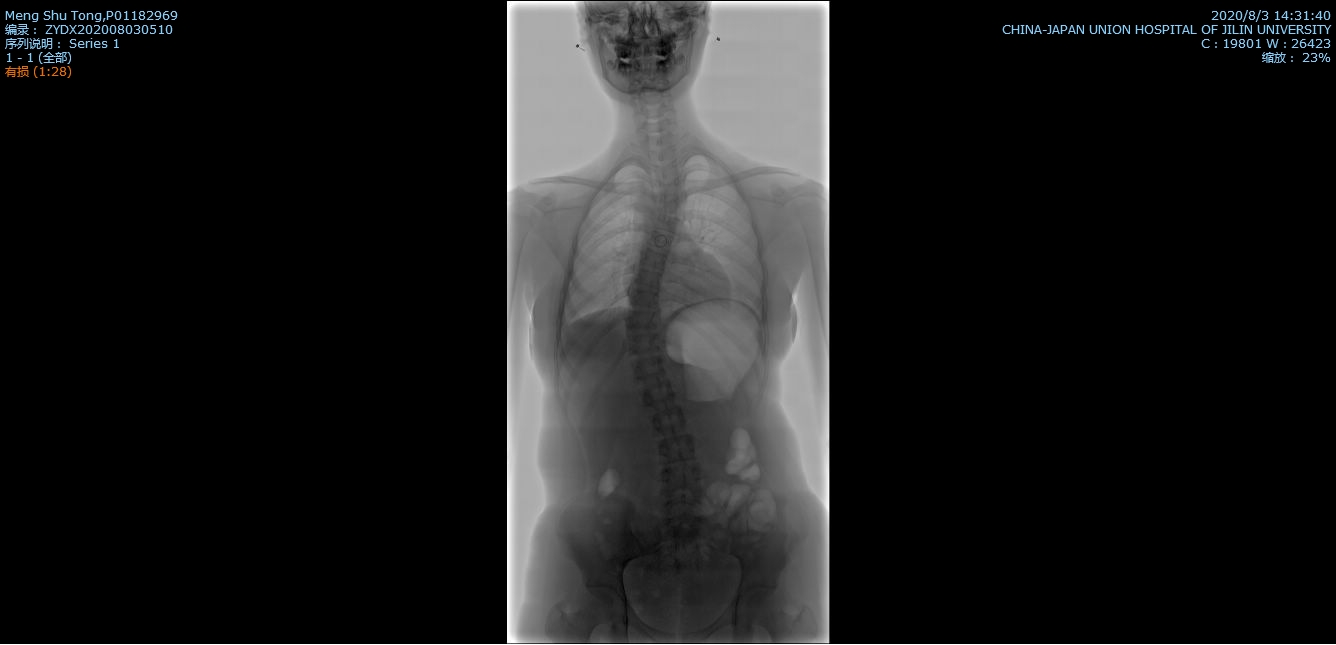Bone: (662, 488, 703, 510), (659, 437, 694, 460), (661, 465, 699, 483), (652, 410, 684, 430), (642, 384, 673, 404), (633, 357, 663, 377), (625, 311, 659, 328), (628, 334, 659, 351), (633, 289, 659, 307), (650, 231, 676, 249), (654, 213, 681, 230), (637, 267, 662, 284), (641, 248, 667, 264)
